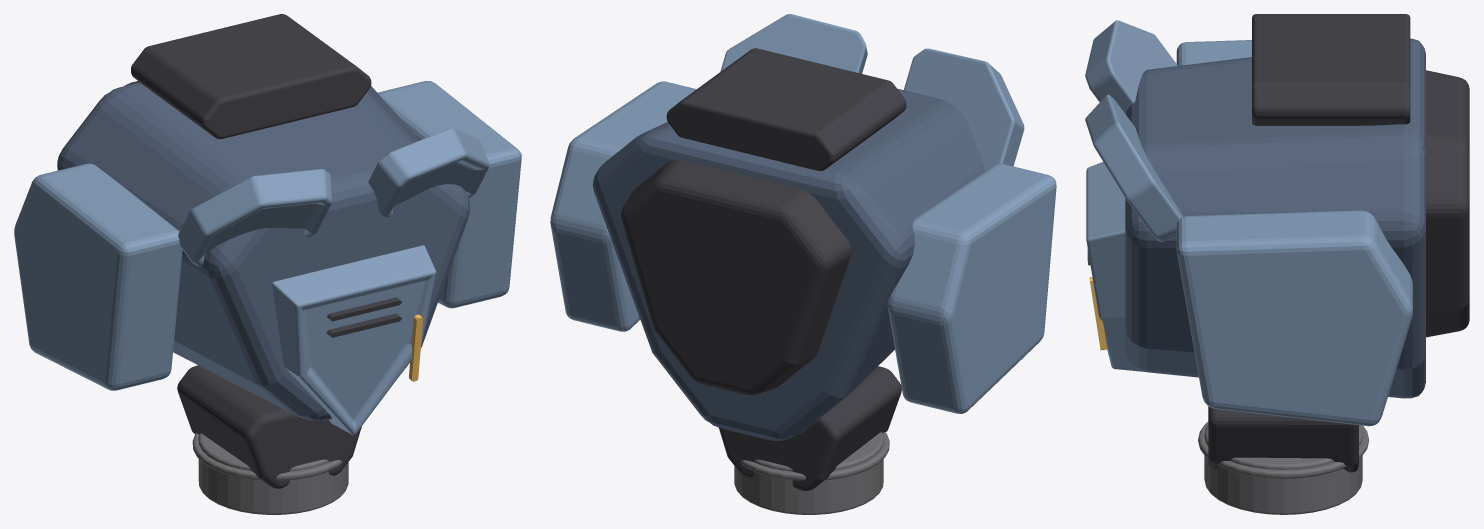
File: recon_sleek_core.glb
3 renders of one model, left to right at view 1: azimuth 30°, elevation 25°; view 2: azimuth 150°, elevation 25°; view 3: azimuth 270°, elevation 25°, orthographic. The views are drawn at different scales.
Parts seen in each view (by area): view 1: Chest, ChestSide1, Collar, Keel, ChestSide, Abdomen, ChestUpper1, Waist, ChestUpper, ChestVent1, ChestVent, ChestMark; view 2: Chest, Back, ChestSide1, Collar, ChestSide, Abdomen, ChestUpper1, Waist, ChestUpper; view 3: Chest, ChestSide, Collar, Back, Waist, Abdomen, Keel, ChestUpper, ChestUpper1, ChestSide1.
Boxes of the visible parts, <box> form: Chest: <box>57,82,470,420</box>; ChestSide1: <box>14,163,182,390</box>; Collar: <box>131,14,371,139</box>; Keel: <box>272,245,436,435</box>; ChestSide: <box>378,81,521,308</box>; Abdomen: <box>177,365,361,488</box>; ChestUpper1: <box>178,169,332,266</box>; Waist: <box>192,433,348,514</box>; ChestUpper: <box>368,128,489,217</box>; ChestVent1: <box>326,313,401,337</box>; ChestVent: <box>327,297,401,321</box>; ChestMark: <box>409,314,423,381</box>; Chest: <box>592,88,984,440</box>; Back: <box>621,160,851,395</box>; ChestSide1: <box>887,163,1056,413</box>; Collar: <box>666,48,906,170</box>; ChestSide: <box>550,81,696,331</box>; Abdomen: <box>718,366,901,491</box>; ChestUpper1: <box>904,48,1024,170</box>; Waist: <box>734,432,889,514</box>; ChestUpper: <box>720,14,867,73</box>; Chest: <box>1125,38,1425,398</box>; ChestSide: <box>1176,210,1412,426</box>; Collar: <box>1252,14,1410,125</box>; Back: <box>1426,70,1469,337</box>; Waist: <box>1198,422,1368,514</box>; Abdomen: <box>1208,406,1358,472</box>; Keel: <box>1086,162,1144,371</box>; ChestUpper: <box>1085,94,1183,241</box>; ChestUpper1: <box>1085,20,1177,114</box>; ChestSide1: <box>1176,40,1251,65</box>.
Size of the model in its own units: 3.1 by 3.02 by 2.43.
